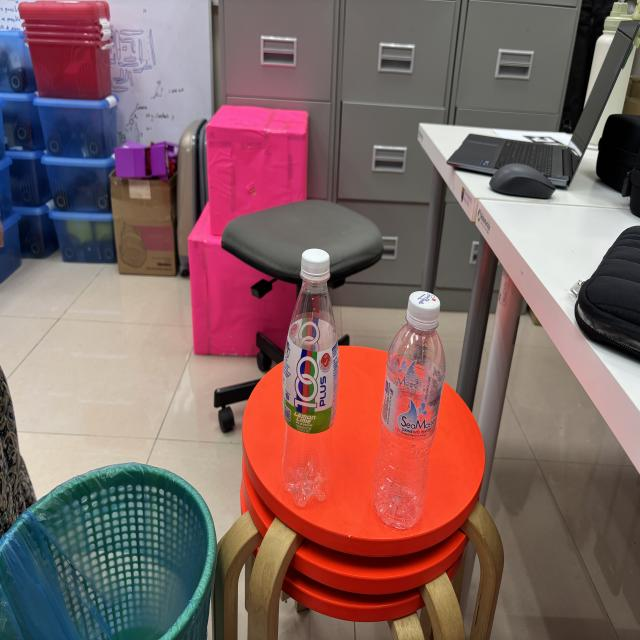dustbin: (0, 443, 228, 640)
plastic_bottle: (363, 282, 452, 534), (274, 237, 354, 517)
